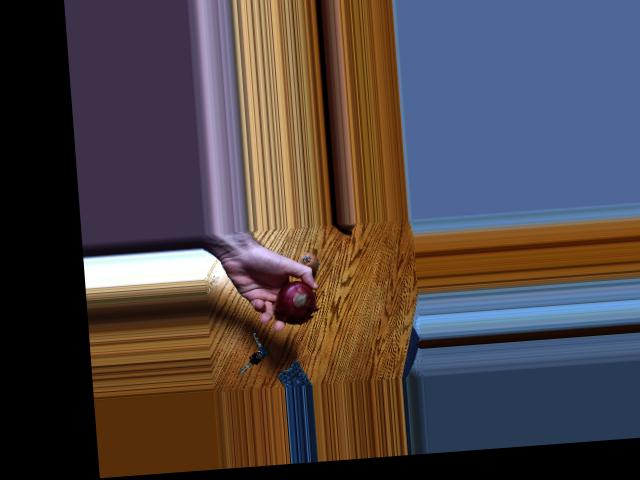onion: (290, 244, 320, 272)
